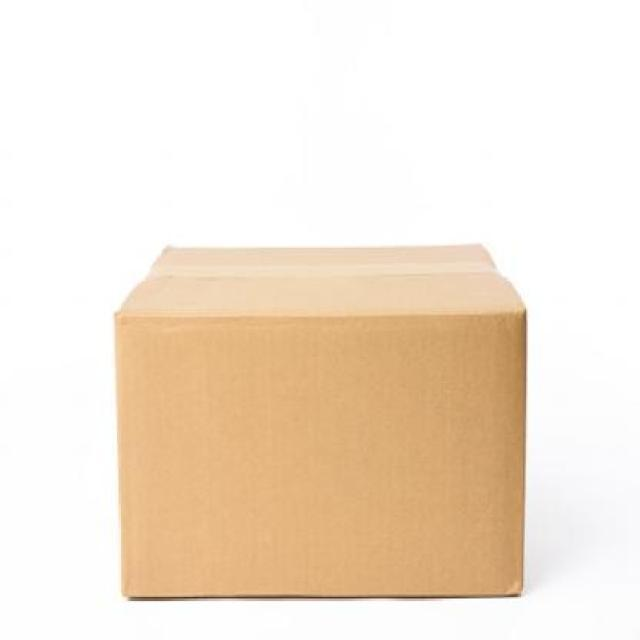obstacle: (112, 242, 530, 598)
